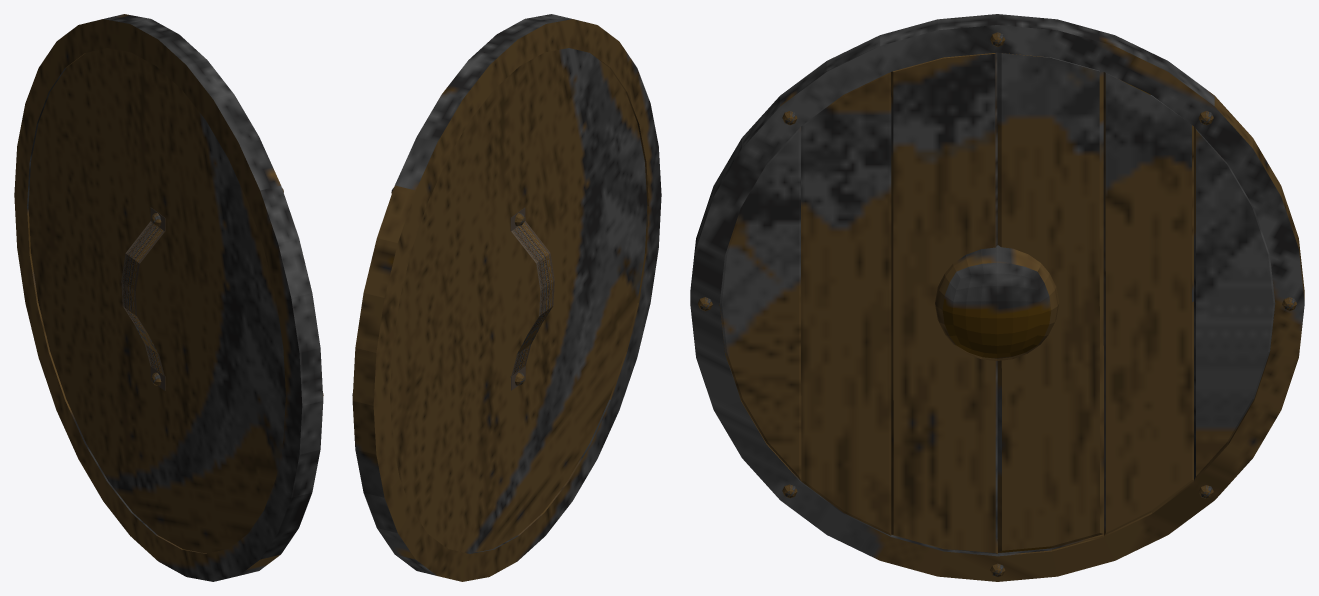
The model's file is scit.fbx.
3 views of the same model, side by side, from view 1: azimuth 30°, elevation 25°; view 2: azimuth 150°, elevation 25°; view 3: azimuth 270°, elevation 25° (orthographic). The views are drawn at different scales.
Visible parts, largest first — view 1: Cube; view 2: Cube; view 3: Cube.
Boxes of the visible parts, bbox=[...] form: Cube: bbox=[14, 14, 323, 581]; Cube: bbox=[352, 14, 661, 581]; Cube: bbox=[690, 14, 1304, 581].
Bounding box in the file's own units: 31.96 × 200 × 200.
1 material, 1 textured.
